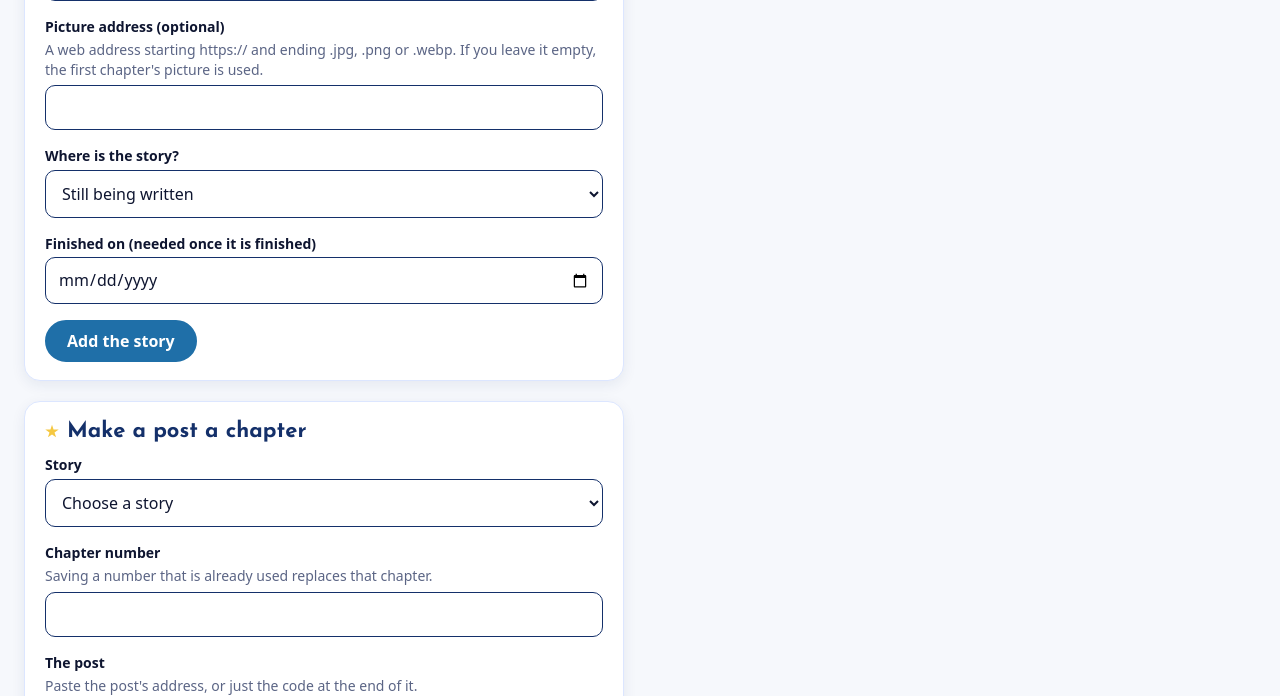
adding and changing a story › checks the story first, in plain words, and saves nothing while it is wrong
This screenshot has width=1280, height=696.
(page scrolled)
Click the button "Add the story" at (121, 341), box [45,320,197,362]
(page scrolled)
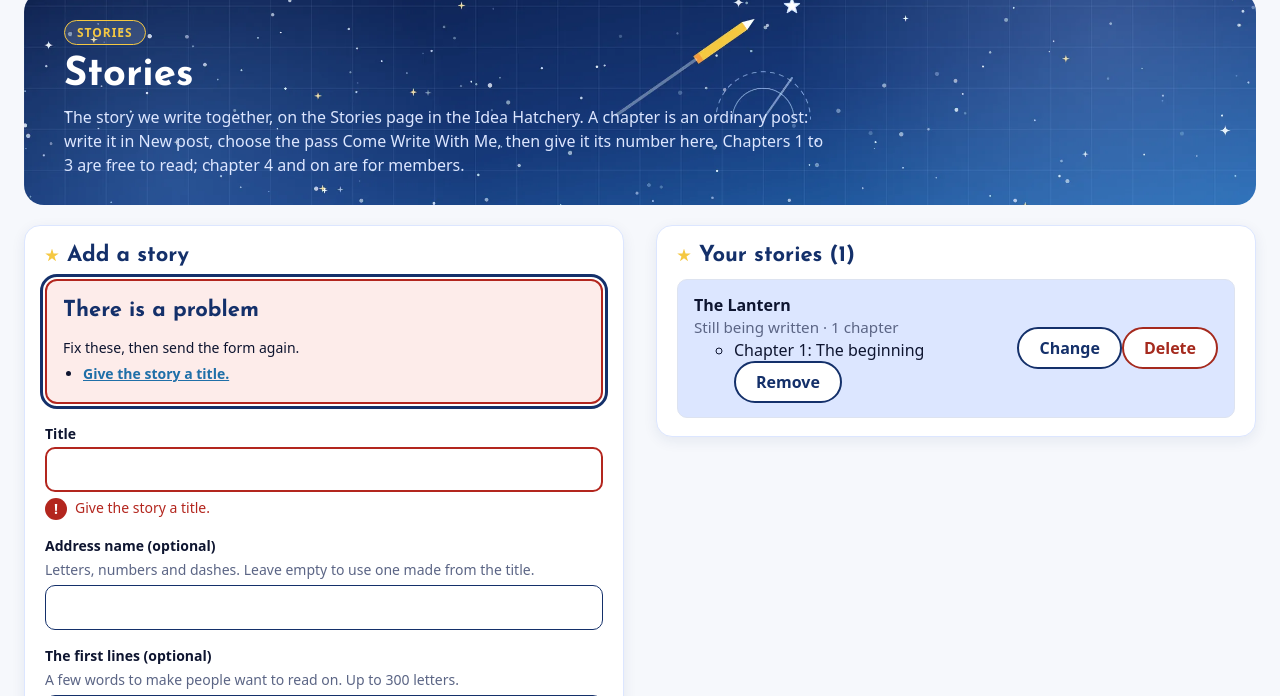
Now the link "Give the story a title." is shown, box [83,364,229,383]
